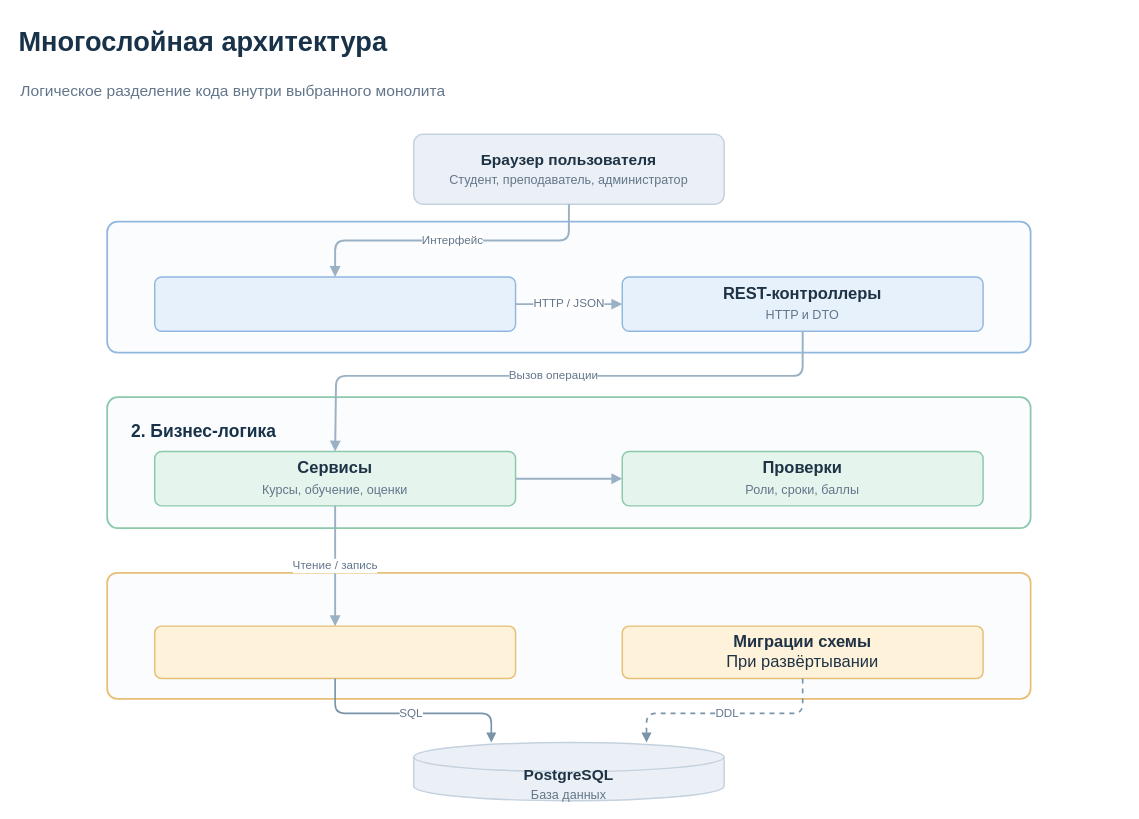
This 1139x819 diagram has some shape labels left out. Here are the shapes that lost their labels. From the top down, the box of each, then its label:
(154, 276, 516, 332): React Страницы и формы
(106, 220, 1031, 353): 1. Представление
(154, 625, 516, 679): Репозитории и ORM Чтение и запись
(106, 571, 1031, 699): 3. Доступ к данным
